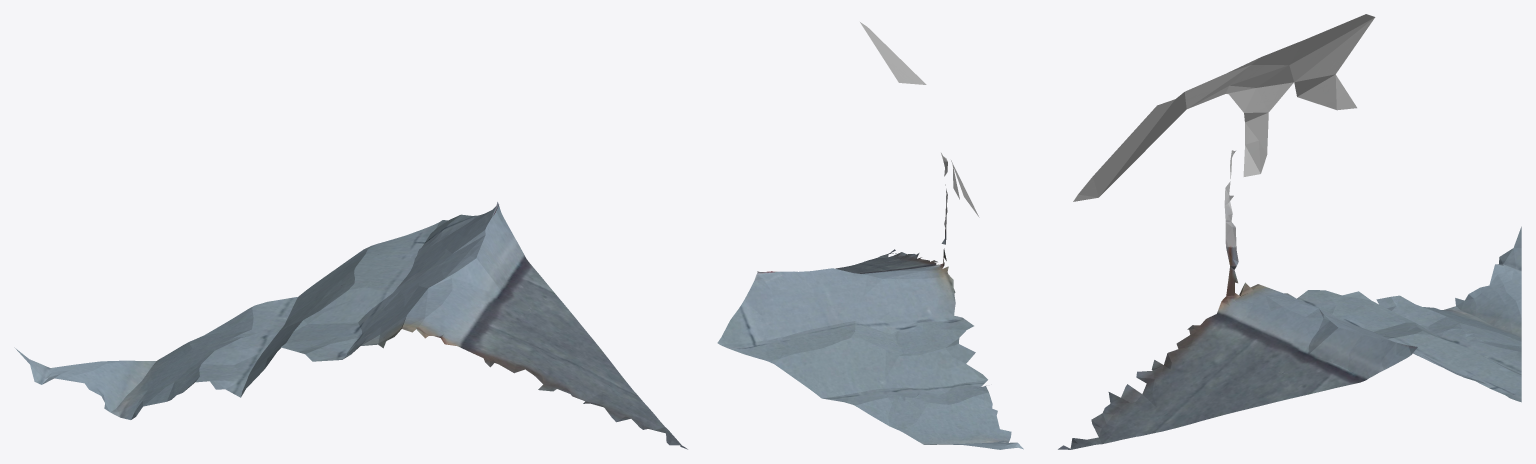
3 renders of one model, left to right at view 1: azimuth 30°, elevation 25°; view 2: azimuth 150°, elevation 25°; view 3: azimuth 270°, elevation 25°, orthographic. The views are drawn at different scales.
Size of the model in its own units: 3.79 by 3.33 by 3.76.
Materials: 1 (1 with a texture image).
